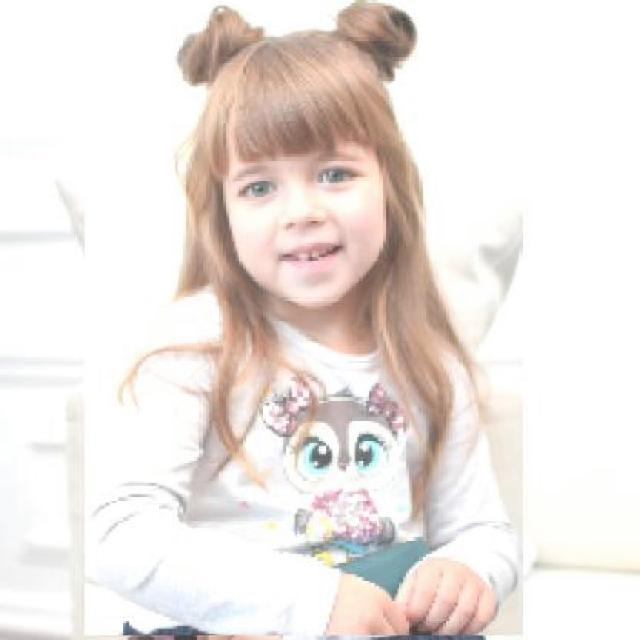child: (83, 0, 523, 637)
